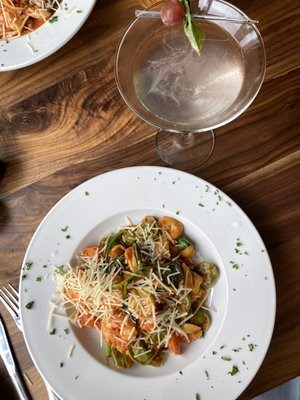pizza: (113, 0, 267, 172)
